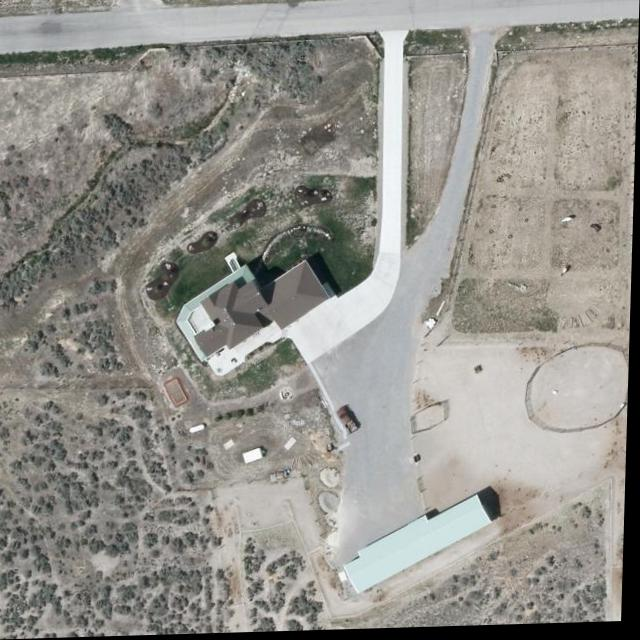vehicle: (337, 406, 365, 437)
